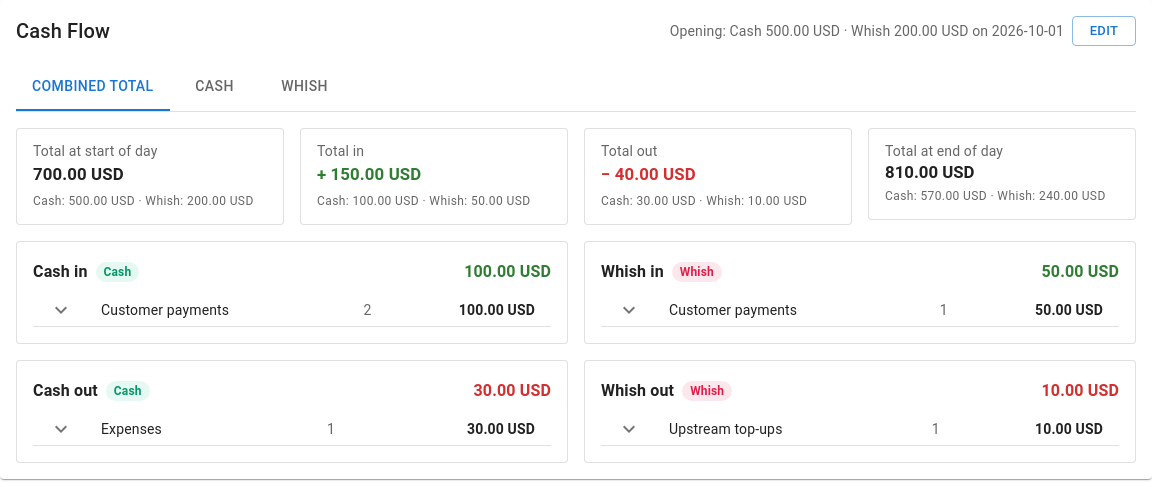
Test: DailyCashFlowSection › switches to Whish tab and displays only Whish cards and sections
This screenshot has width=1152, height=498.
Click the tab "Whish" at (304, 87), box top-left (260, 63), bottom-right (350, 111)
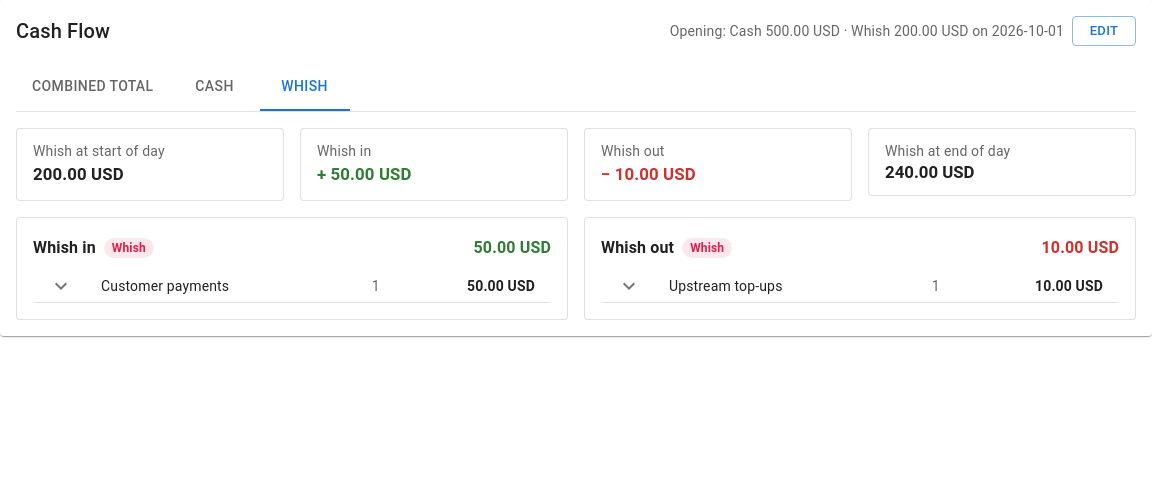
Result: the text "Whish at start of day" is shown at top-left (33, 143), bottom-right (165, 159)
Result: the text "Whish at end of day" is shown at top-left (885, 143), bottom-right (1010, 159)
Result: the heading "240.00 USD" is shown at top-left (885, 162), bottom-right (974, 182)
